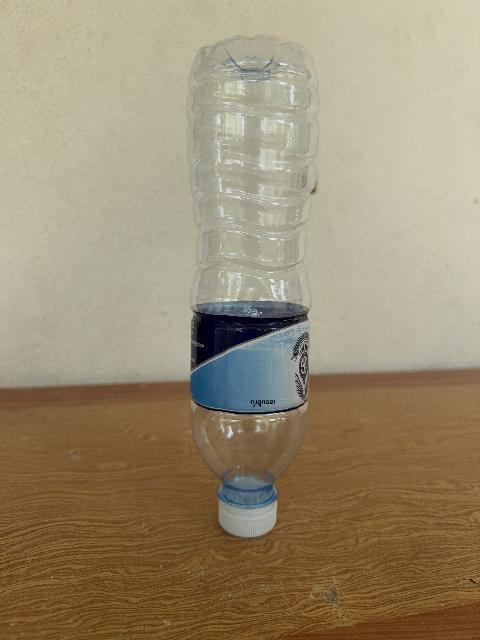bottle: (186, 36, 317, 536)
